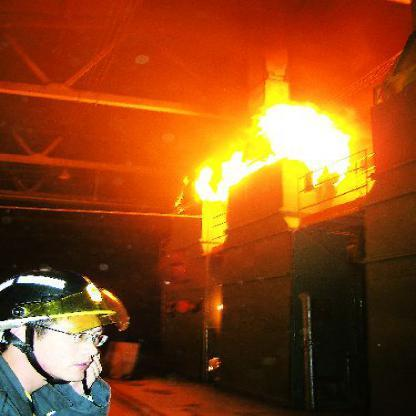fire: (251, 100, 367, 174), (189, 158, 236, 204)
